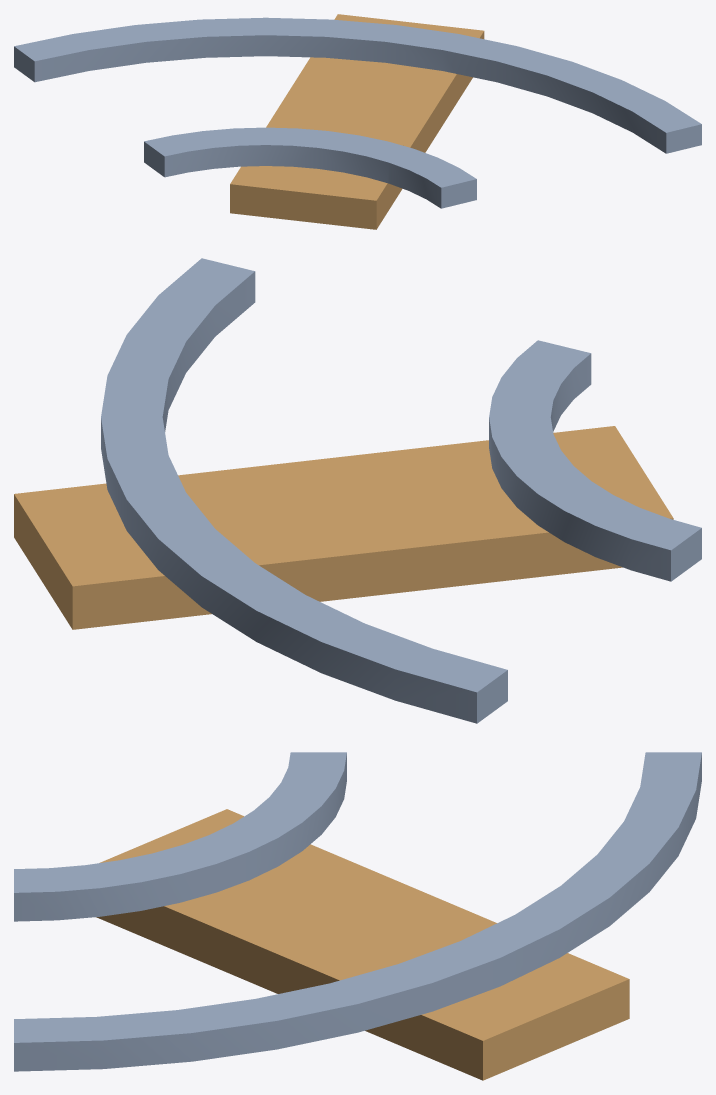
Rendered from trackCorner.fbx.
3 renders of one model, top to bottom at view 1: azimuth 30°, elevation 25°; view 2: azimuth 150°, elevation 25°; view 3: azimuth 270°, elevation 25°, orthographic. The views are drawn at different scales.
Parts seen in each view (by area): view 1: trackCorner, Group 35; view 2: trackCorner, Group 35; view 3: trackCorner, Group 35.
Boxes of the visible parts, left/top/right/bottom form: trackCorner: left=14, top=14, right=701, bottom=229; Group 35: left=144, top=127, right=476, bottom=187; trackCorner: left=14, top=258, right=701, bottom=723; Group 35: left=489, top=340, right=701, bottom=550; trackCorner: left=14, top=752, right=701, bottom=1080; Group 35: left=14, top=752, right=346, bottom=892.
Bounding box in the file's own units: 2.2 × 0.241 × 2.2.
